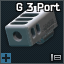Glock 9x19 CARVER Custom Decelerator 3 Port compensator: (0, 0, 64, 64)
